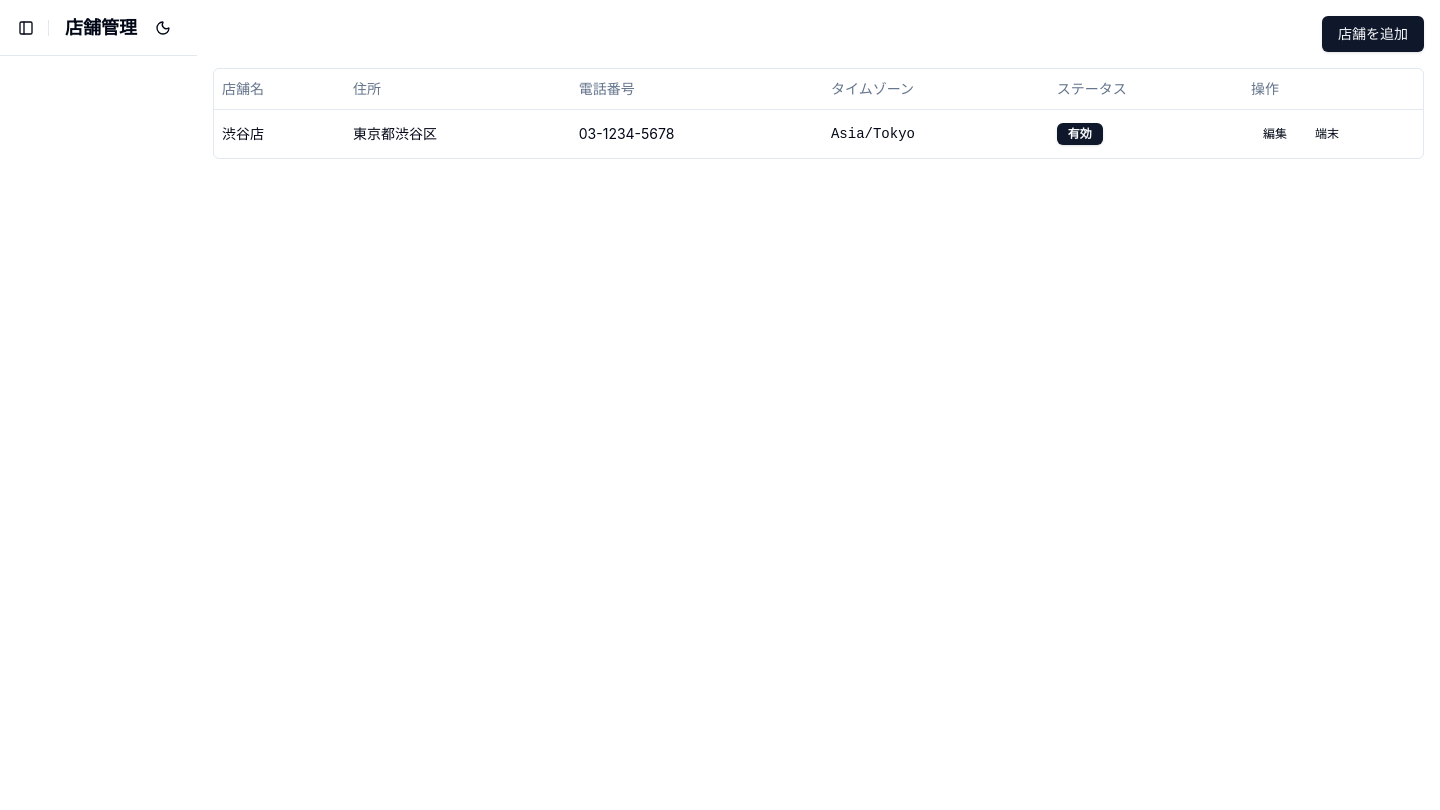
Test: StoresPage › 端末ボタンで端末ダイアログが開く
This screenshot has width=1440, height=810.
expect the text "渋谷店" is shown: met, box [214,109,345,158]
Click the button "端末": (1327, 134) [1303,118,1351,150]
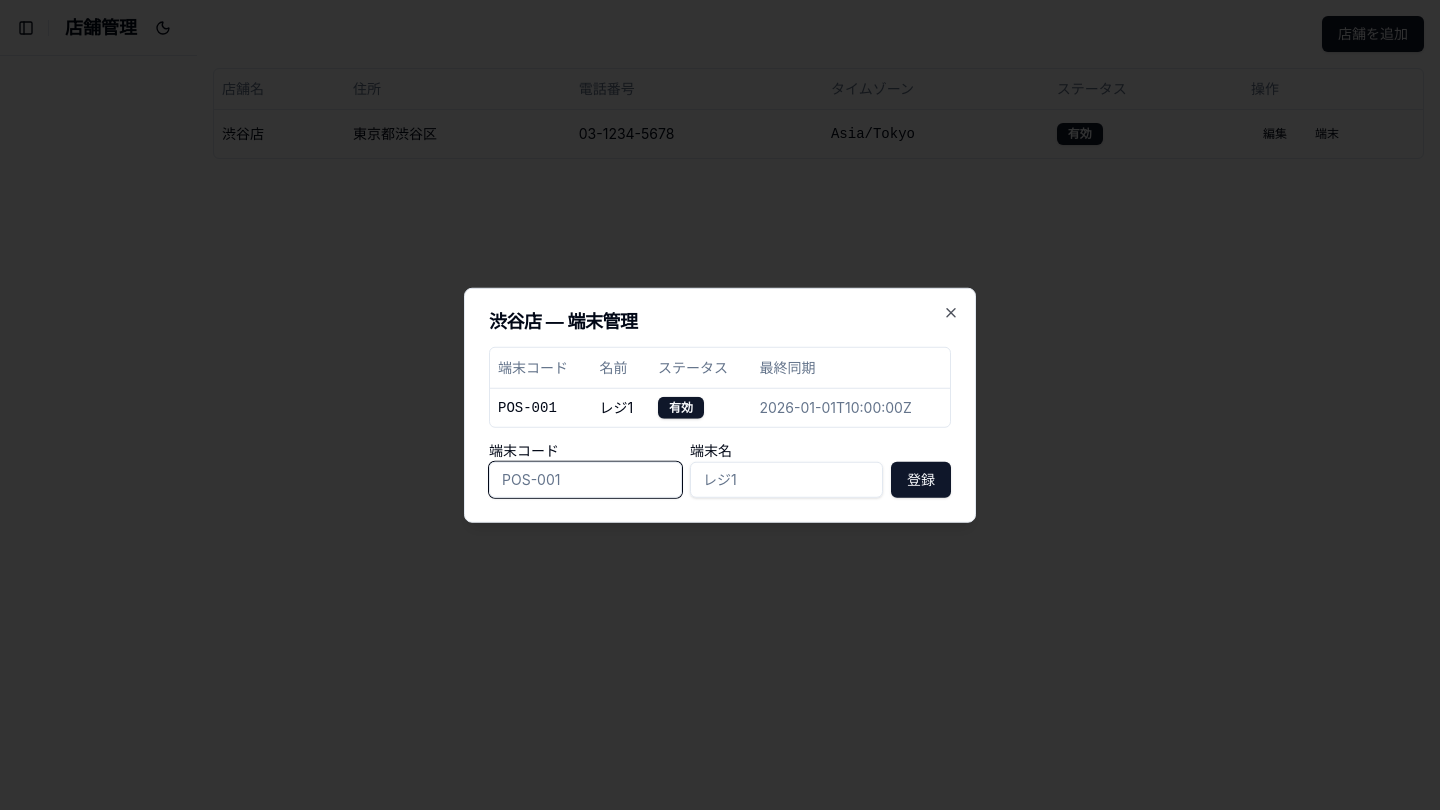
expect the heading "渋谷店 — 端末管理" is shown: met, box [489,311,638,332]
expect the text "POS-001" is shown: met, box [490,388,591,426]
expect the text "レジ1" is shown: met, box [591,388,650,426]
